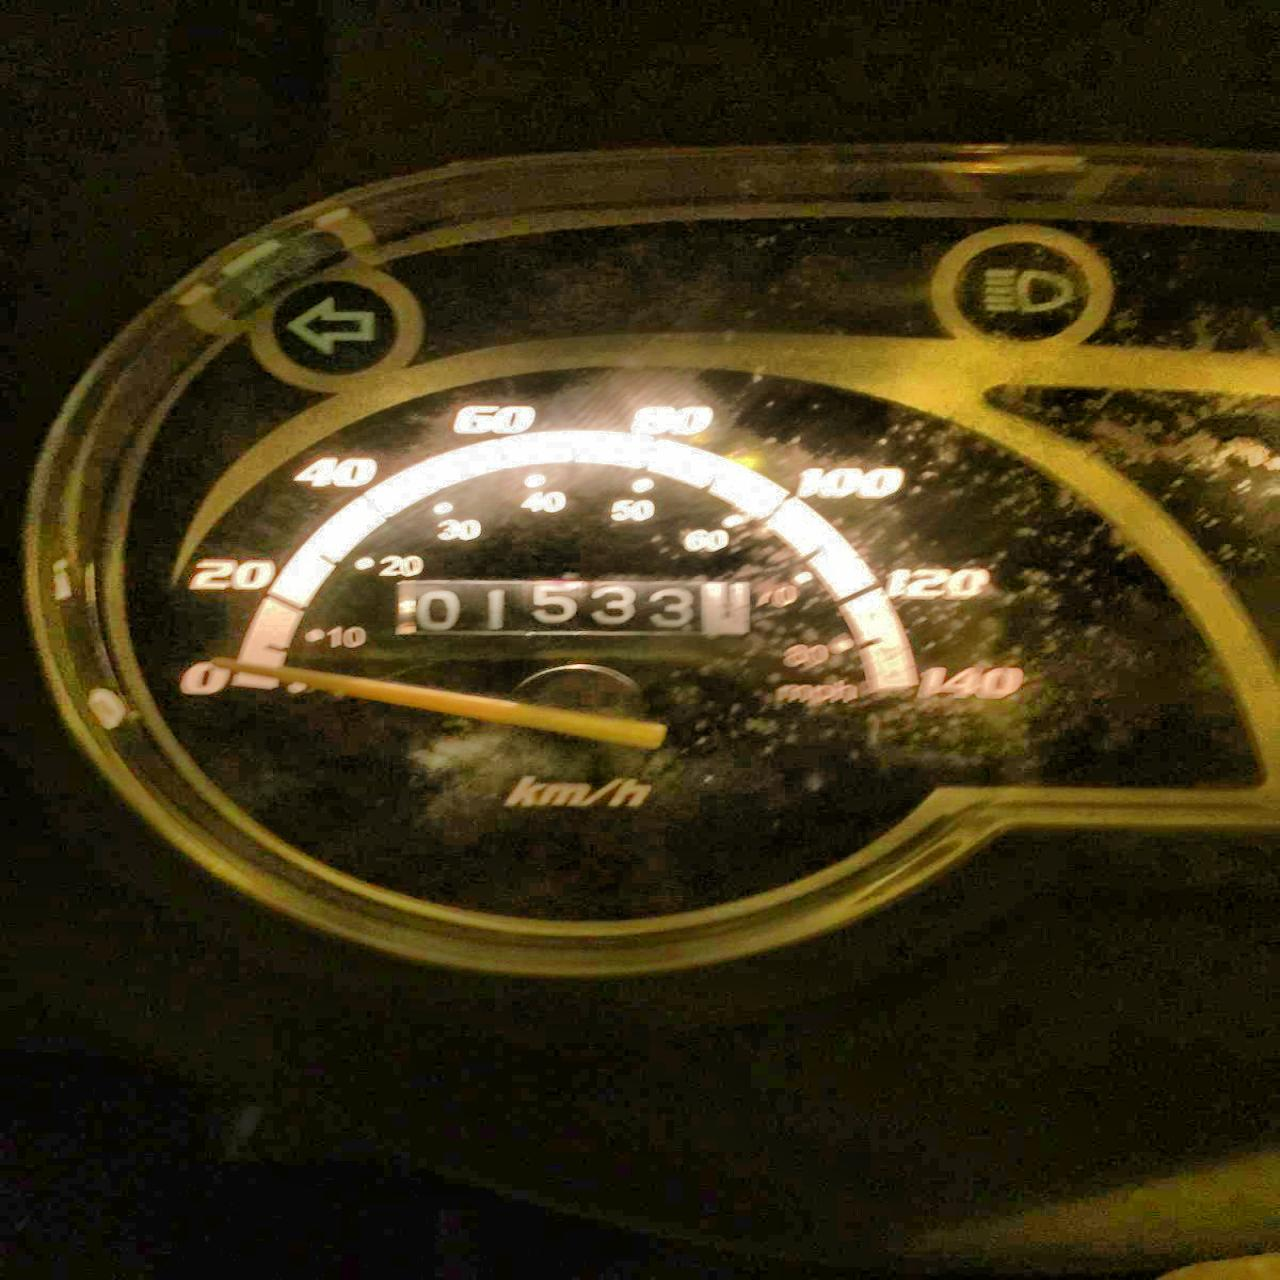0: (415, 587, 462, 631)
1: (713, 578, 742, 626), (482, 586, 509, 633)
3: (590, 581, 639, 627), (646, 583, 694, 628)
5: (526, 583, 580, 624)
odometer: (377, 572, 757, 641)
